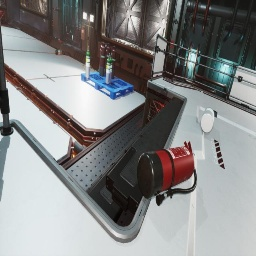0: (200, 107, 214, 133), (85, 46, 90, 78), (106, 53, 111, 84), (109, 52, 113, 83), (54, 49, 62, 55), (96, 69, 105, 72)
EmergencyPhone ,: (52, 18, 54, 26)
FireAlarm ,: (170, 40, 174, 48)
FireExtinguisher ]: (137, 141, 197, 206)
NitrogenTank ,: (99, 42, 106, 77), (104, 43, 111, 74), (99, 41, 105, 73), (111, 46, 116, 79)
SafetySwitchPanel ,: (81, 22, 86, 41)
